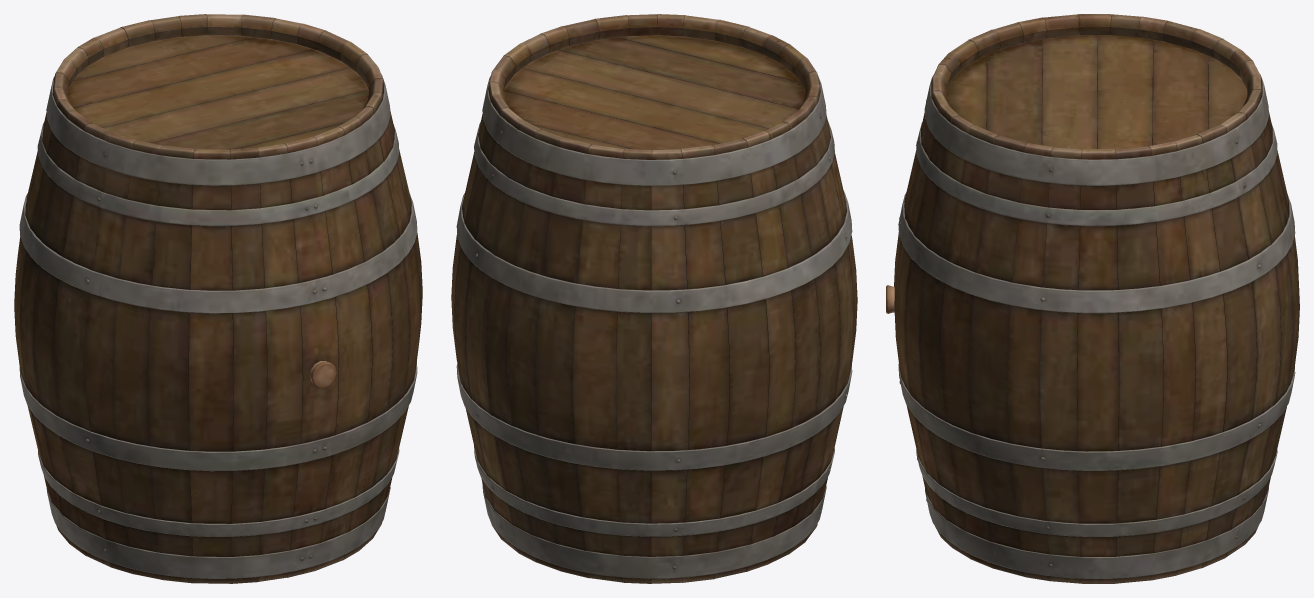
File: wine_barrel_01.glb
3 views of the same model, side by side, from view 1: azimuth 30°, elevation 25°; view 2: azimuth 150°, elevation 25°; view 3: azimuth 270°, elevation 25° (orthographic).
Parts seen in each view (by area): view 1: wine_barrel_01_Lid; view 2: wine_barrel_01_Lid; view 3: wine_barrel_01_Lid.
Boxes of the visible parts, x1=… form: wine_barrel_01_Lid: x1=14, y1=14, x2=422, y2=583; wine_barrel_01_Lid: x1=451, y1=14, x2=857, y2=583; wine_barrel_01_Lid: x1=886, y1=14, x2=1299, y2=583.
Size of the model in its own units: 0.7419 by 0.8713 by 0.7561.
Materials: 1 (1 with a texture image).
